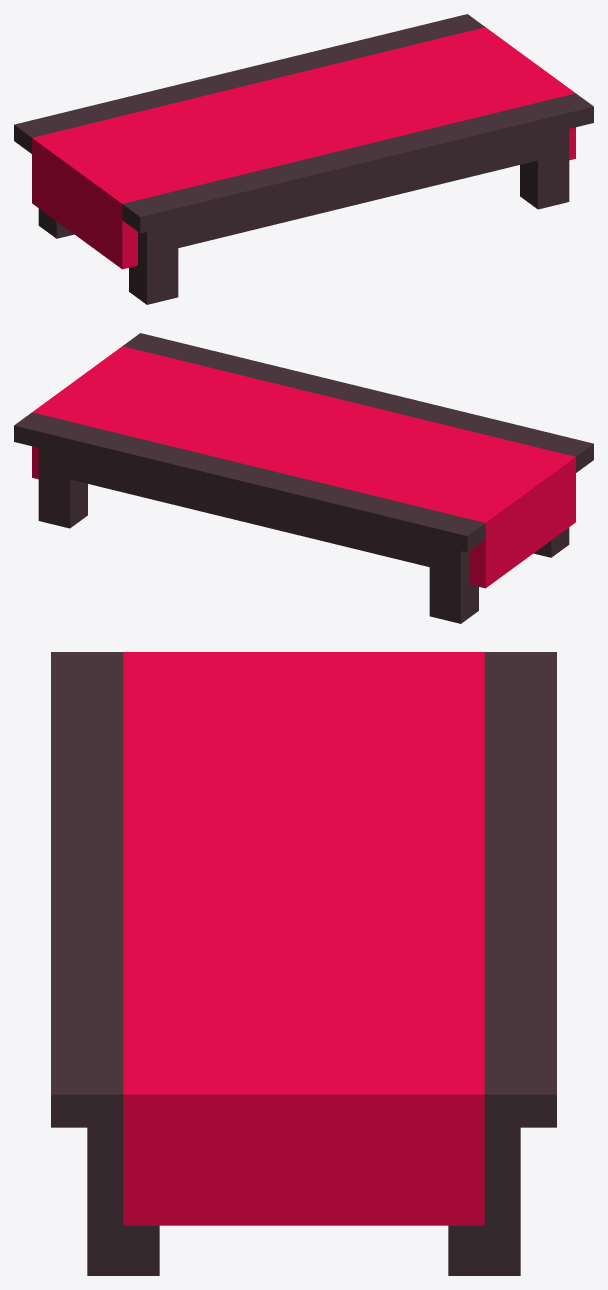
Rendered from large_table_c_red.obj.
3 renders of one model, top to bottom at view 1: azimuth 30°, elevation 25°; view 2: azimuth 150°, elevation 25°; view 3: azimuth 270°, elevation 25°, orthographic. The views are drawn at different scales.
Bounding box in the file's own units: 2.9 × 0.6 × 1.4.
Materials: 1 (1 with a texture image).
